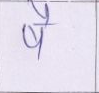ai_matra: (31, 2, 55, 23)
